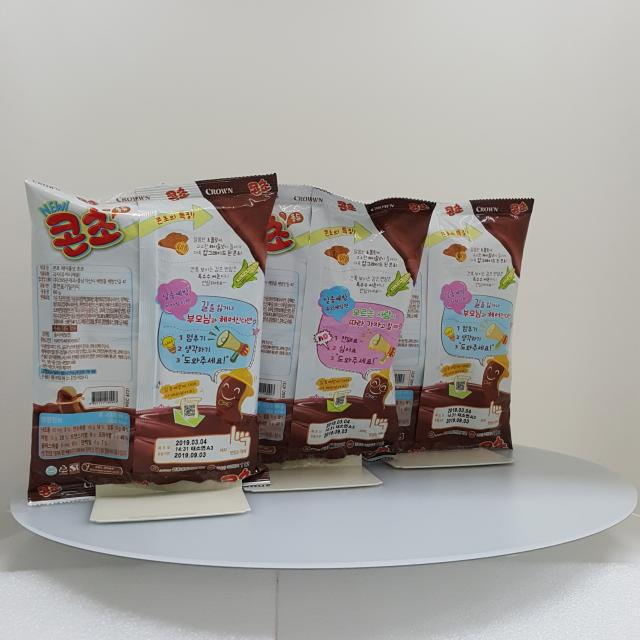-66G: (25, 174, 279, 507), (194, 184, 437, 465), (339, 198, 536, 454)
